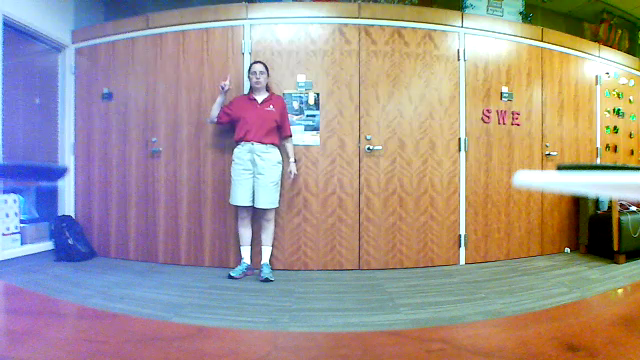up: (215, 69, 233, 97)
